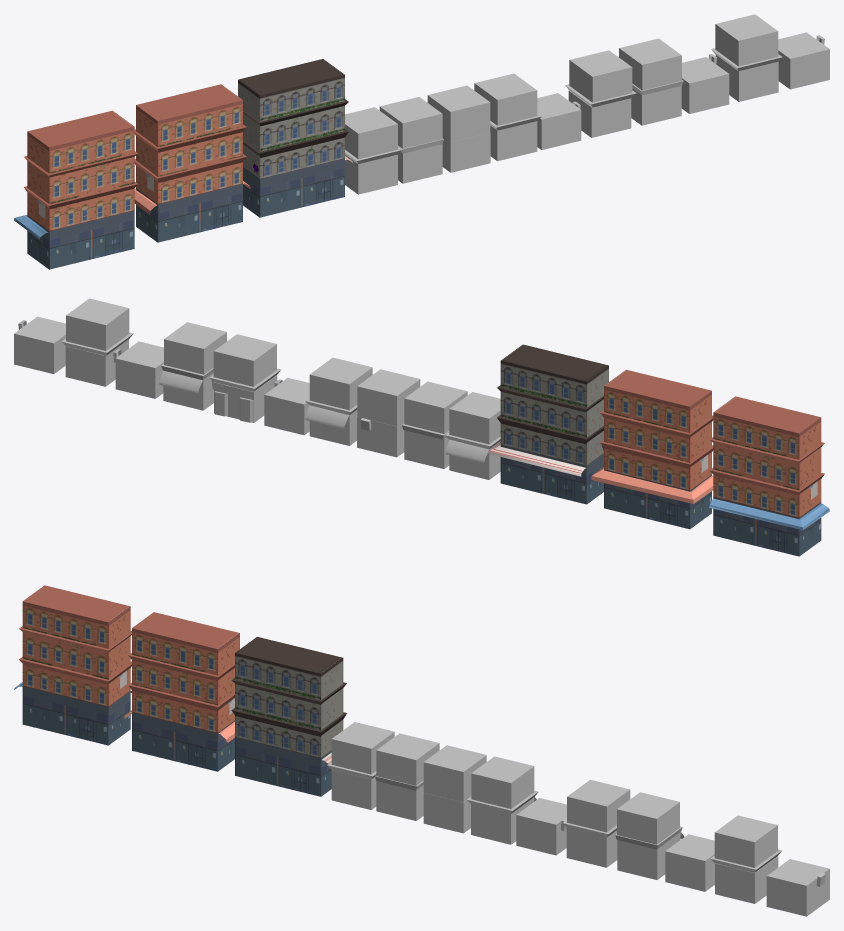
The model's file is Buildings_v2.fbx.
3 renders of one model, top to bottom at view 1: azimuth 30°, elevation 25°; view 2: azimuth 150°, elevation 25°; view 3: azimuth 330°, elevation 25°, orthographic.
Parts seen in each view (by area): view 1: BLD_19-2, BLD 19, BLD 18, BLD_V2.006, BLD_V2.002, BLD_V2.004, BLD_V2.009, BLD_V2.011, BLD_V2.015, BLD_V2.001, BLD_V2.013, BLD_V2.003 (+8 smaller); view 2: BLD_19-2, BLD 19, BLD 18, BLD_V2.006, BLD_V2.002, BLD_V2.004, BLD_V2.009, BLD_V2.011, BLD_V2.001, BLD_V2.013, BLD_V2.015, BLD_V2.003 (+8 smaller); view 3: BLD_19-2, BLD 18, BLD 19, BLD_V2.009, BLD_V2.002, BLD_V2.001, BLD_V2.004, BLD_V2.006, BLD_V2.011, BLD_V2.013, BLD_V2.015, BLD_V2.008 (+8 smaller).
Boxes of the visible parts, x1=… form: BLD_19-2: x1=14, y1=110, x2=138, y2=269; BLD 19: x1=134, y1=84, x2=250, y2=242; BLD 18: x1=238, y1=59, x2=352, y2=217; BLD_V2.006: x1=565, y1=50, x2=636, y2=107; BLD_V2.002: x1=711, y1=14, x2=782, y2=71; BLD_V2.004: x1=619, y1=38, x2=683, y2=95; BLD_V2.009: x1=474, y1=73, x2=541, y2=130; BLD_V2.011: x1=427, y1=85, x2=490, y2=141; BLD_V2.015: x1=345, y1=107, x2=401, y2=163; BLD_V2.001: x1=778, y1=32, x2=829, y2=89; BLD_V2.013: x1=379, y1=97, x2=443, y2=153; BLD_V2.003: x1=681, y1=54, x2=729, y2=113; BLD_19-2: x1=709, y1=396, x2=829, y2=556; BLD 19: x1=591, y1=369, x2=713, y2=529; BLD 18: x1=488, y1=344, x2=608, y2=504; BLD_V2.006: x1=209, y1=334, x2=281, y2=391; BLD_V2.002: x1=61, y1=298, x2=133, y2=355; BLD_V2.004: x1=161, y1=322, x2=226, y2=380; BLD_V2.009: x1=305, y1=357, x2=372, y2=415; BLD_V2.011: x1=357, y1=369, x2=420, y2=426; BLD_V2.001: x1=14, y1=316, x2=65, y2=373; BLD_V2.013: x1=402, y1=381, x2=467, y2=439; BLD_V2.015: x1=445, y1=392, x2=500, y2=449; BLD_V2.003: x1=113, y1=341, x2=163, y2=398; BLD_19-2: x1=14, y1=585, x2=131, y2=745; BLD 18: x1=231, y1=637, x2=346, y2=796; BLD 19: x1=124, y1=612, x2=239, y2=771; BLD_V2.009: x1=467, y1=756, x2=538, y2=813; BLD_V2.002: x1=710, y1=815, x2=782, y2=872; BLD_V2.001: x1=766, y1=859, x2=829, y2=916; BLD_V2.004: x1=615, y1=792, x2=682, y2=849; BLD_V2.006: x1=562, y1=779, x2=630, y2=837; BLD_V2.011: x1=423, y1=745, x2=486, y2=802; BLD_V2.013: x1=375, y1=733, x2=439, y2=790; BLD_V2.015: x1=327, y1=722, x2=394, y2=779; BLD_V2.008: x1=516, y1=798, x2=566, y2=855.
Bounding box in the file's own units: 7397 × 1091 × 485.
